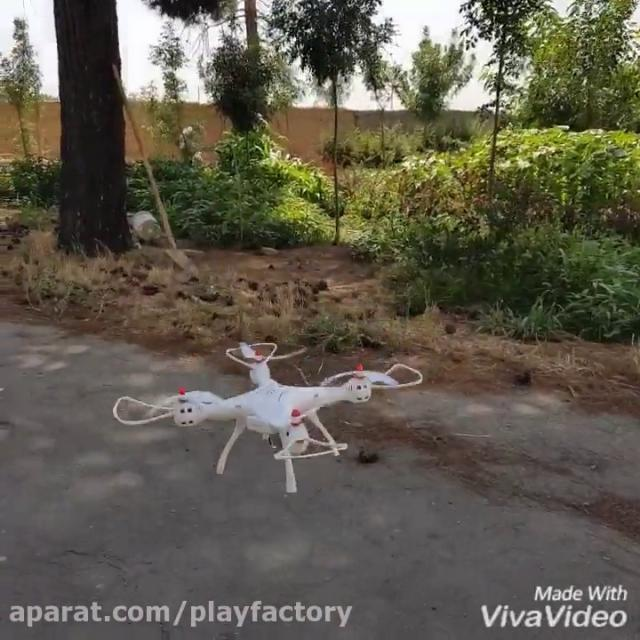drone: (111, 342, 421, 494)
